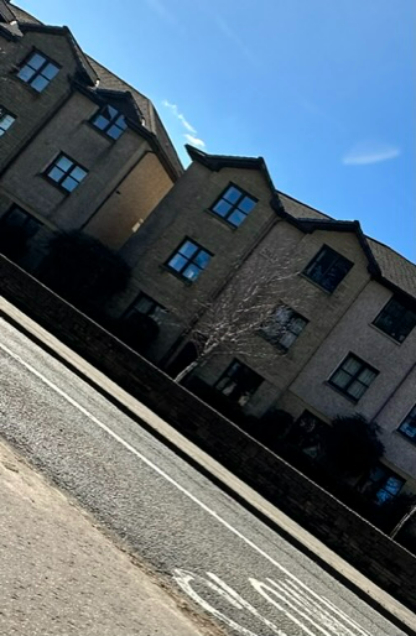tree: (160, 253, 321, 391)
